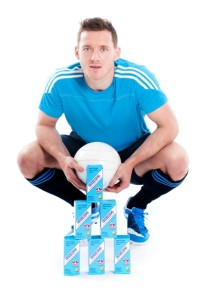ball: (66, 136, 136, 193)
player: (23, 14, 188, 239)
